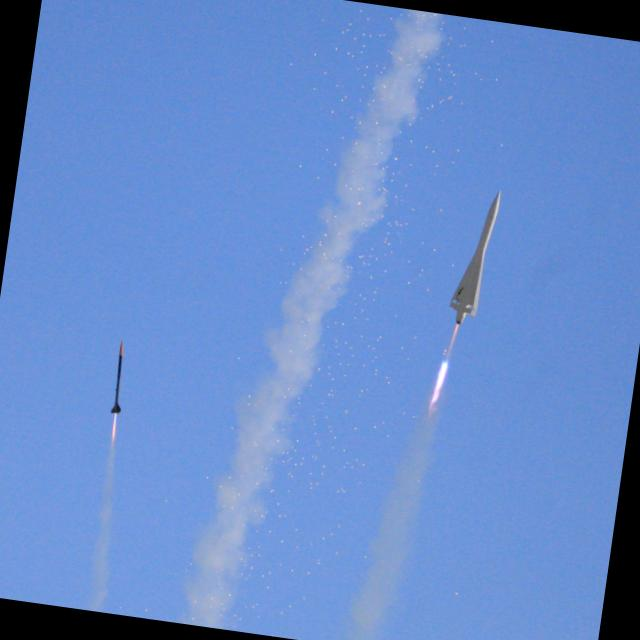rocket: (424, 180, 511, 422), (95, 335, 135, 470)
